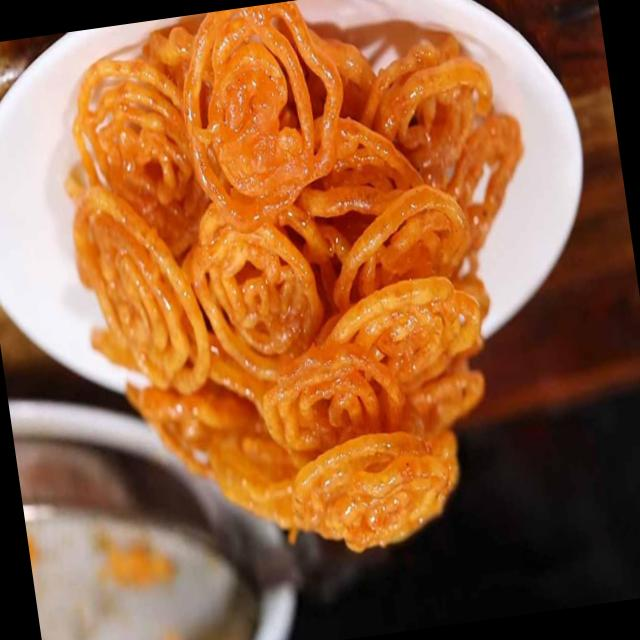jalebi: (56, 6, 548, 578)
